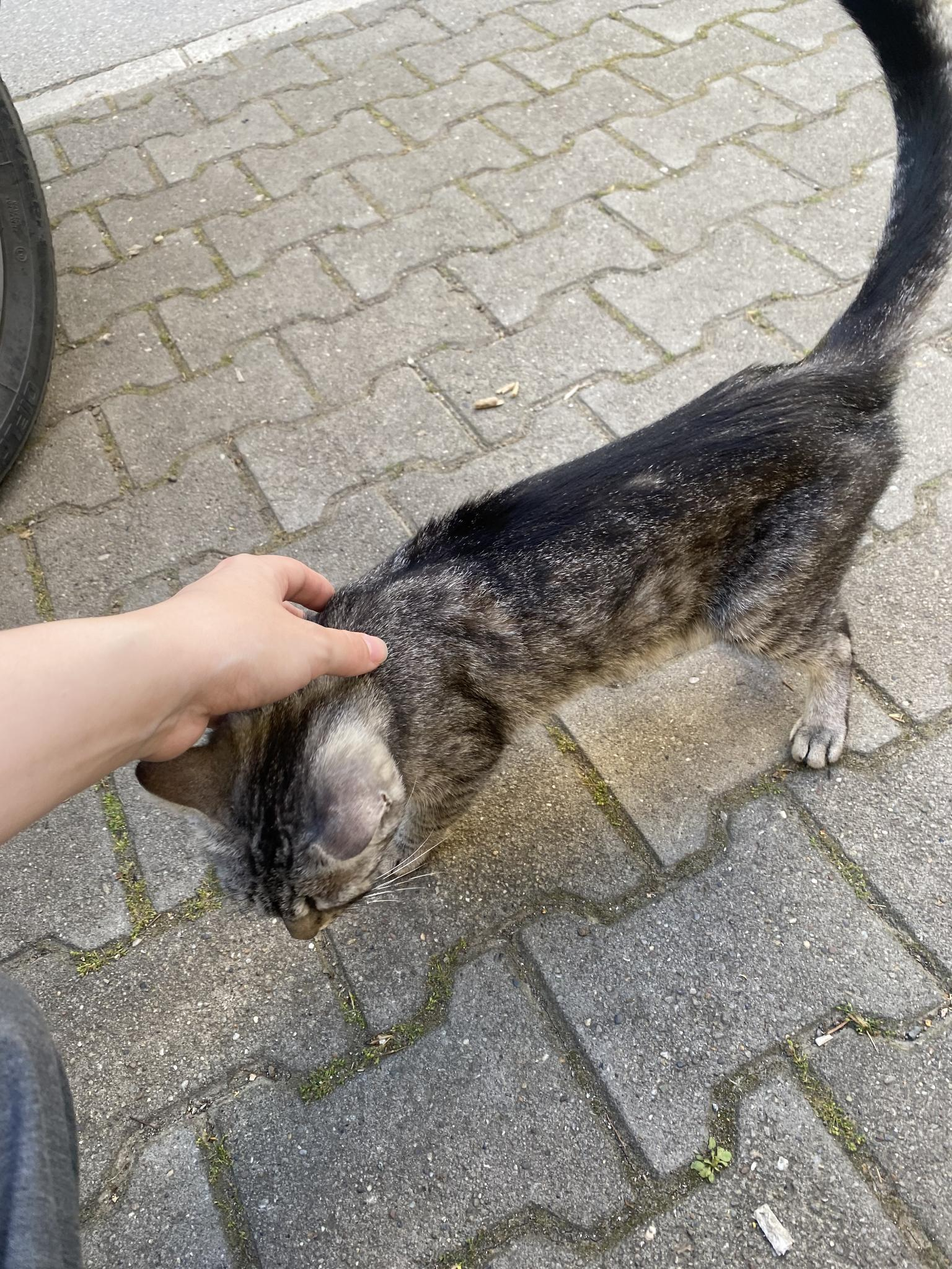macka: (133, 0, 952, 943)
